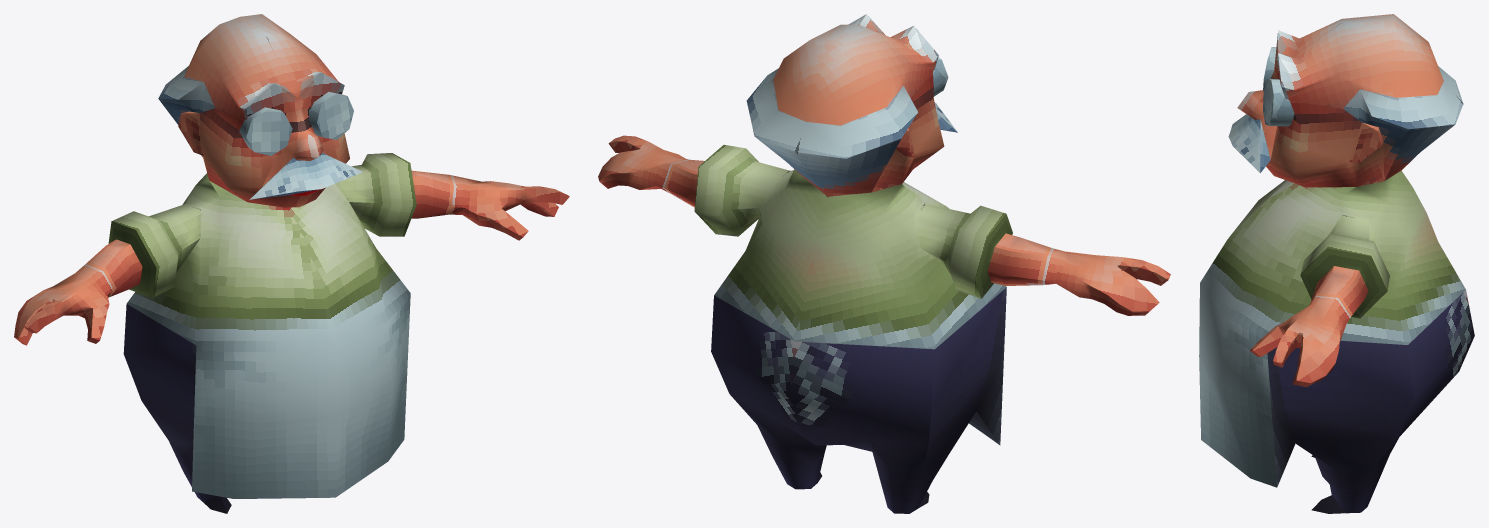
File: Shopkeeper.fbx
The picture shows the model from 3 angles, left to right: view 1: azimuth 30°, elevation 25°; view 2: azimuth 150°, elevation 25°; view 3: azimuth 270°, elevation 25°; orthographic projection. The views are drawn at different scales.
Visible parts, largest first — view 1: ShopKeeper; view 2: ShopKeeper; view 3: ShopKeeper.
Boxes of the visible parts, x1,y1,x2,y2 form: ShopKeeper: (14,14,569,513); ShopKeeper: (598,14,1170,513); ShopKeeper: (1199,14,1474,513).
Bounding box in the file's own units: 7.31 × 5.83 × 3.16.
